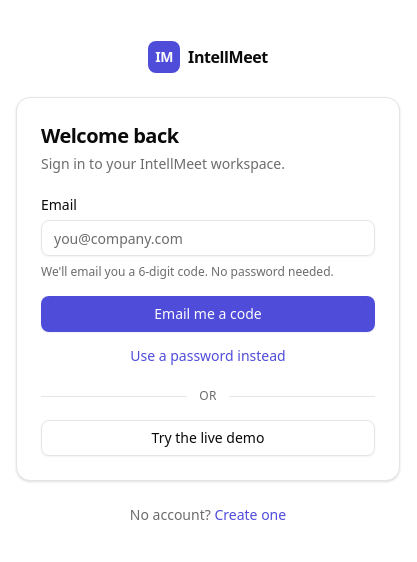
Test: <LoginPage /> › switches to the password form, and back
The image size is (417, 562).
Click the button "Use a password instead" at x=208, y=356, box [41, 340, 375, 372]
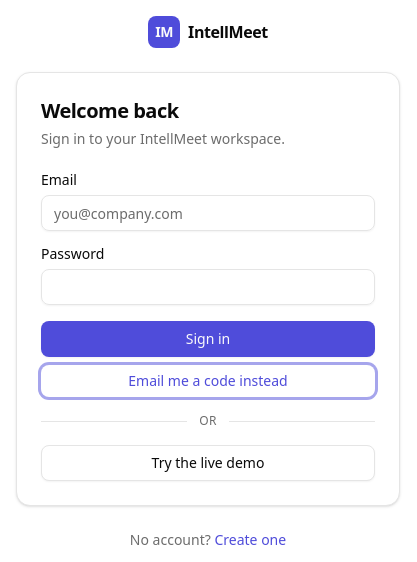
Expected: the field labelled "Email" is shown, [41, 195, 375, 231]
Expected: the password field labelled "Password" is shown, [41, 269, 375, 305]
Expected: the button "Sign in" is shown, [41, 321, 375, 357]
Click the button "Email me a code instead" at x=208, y=381, box [41, 365, 375, 397]
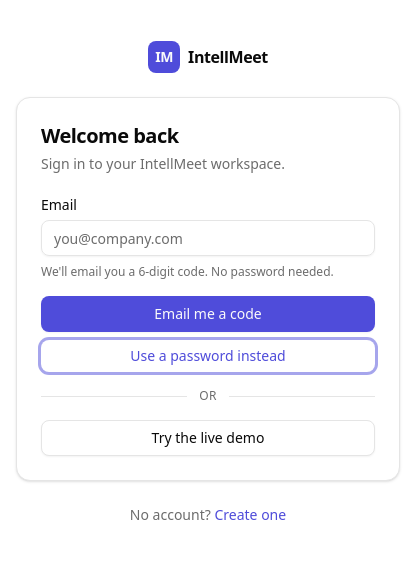
Expected: the button "Email me a code" is shown, [41, 296, 375, 332]
